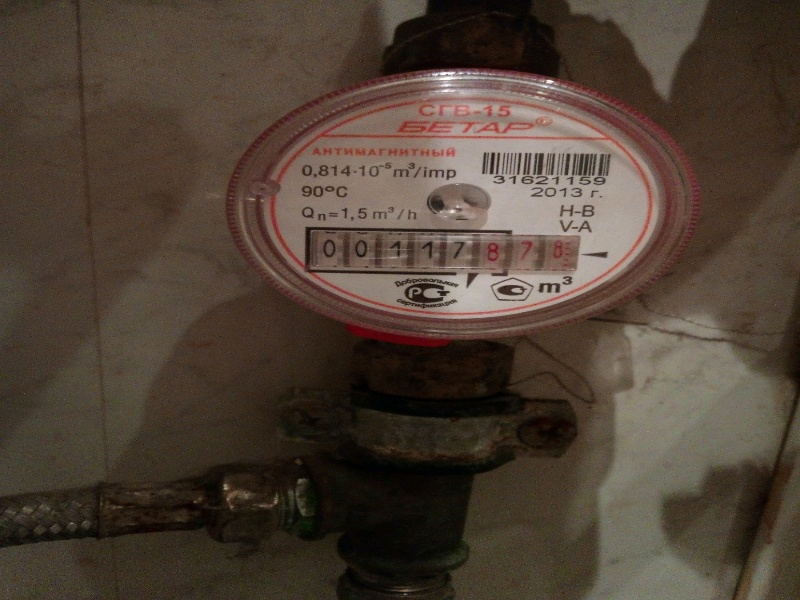meter: (305, 226, 576, 277)
